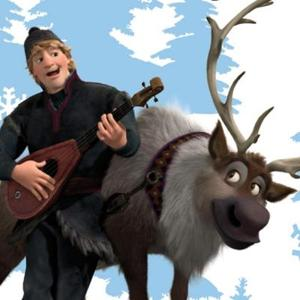sven: (173, 14, 292, 289)
